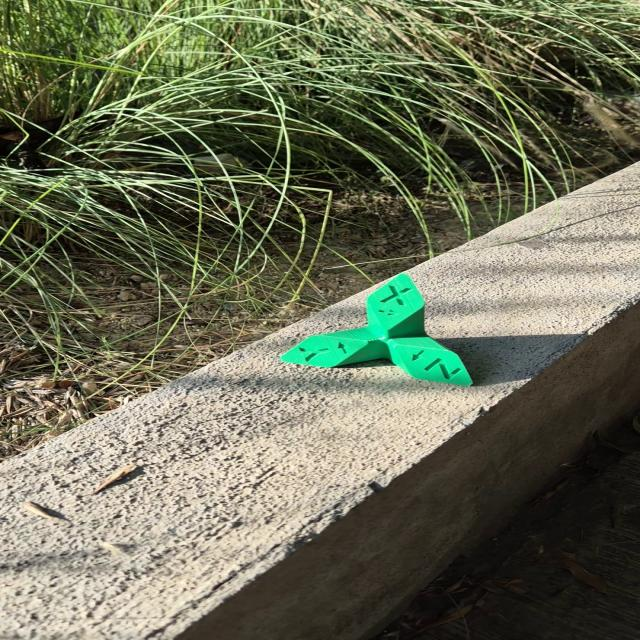objects: (276, 272, 475, 388)
